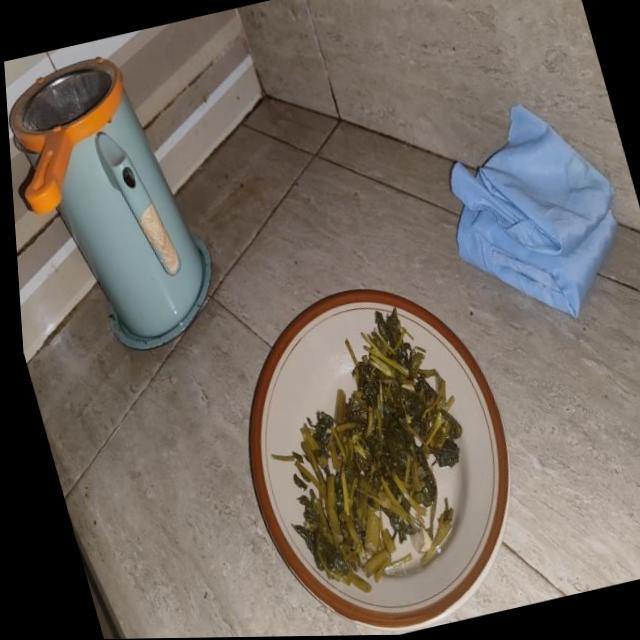tumis_kangkung: (291, 314, 462, 584)
